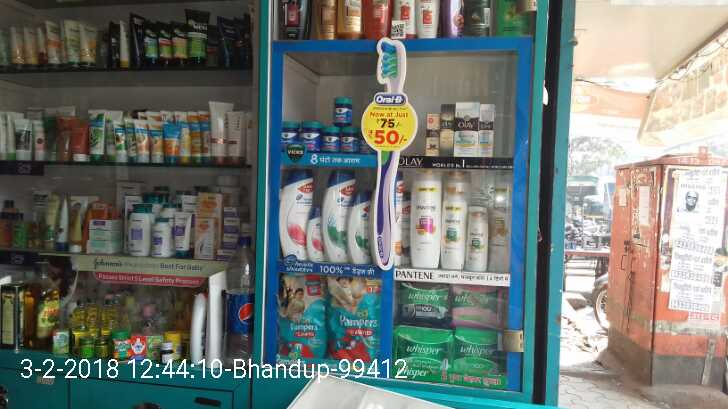beauty: (407, 175, 442, 271), (274, 169, 307, 267), (459, 196, 490, 274), (323, 167, 347, 264), (347, 190, 376, 268), (440, 191, 459, 269), (453, 97, 478, 155), (437, 102, 456, 153), (476, 103, 493, 157), (424, 109, 441, 157), (307, 212, 318, 262)
pharmacy: (323, 273, 379, 370), (273, 278, 324, 360), (389, 328, 444, 380), (443, 283, 501, 332), (452, 327, 499, 378), (397, 286, 449, 318), (328, 93, 354, 123), (298, 123, 321, 154), (337, 128, 365, 152), (279, 118, 296, 145), (325, 132, 341, 155)
